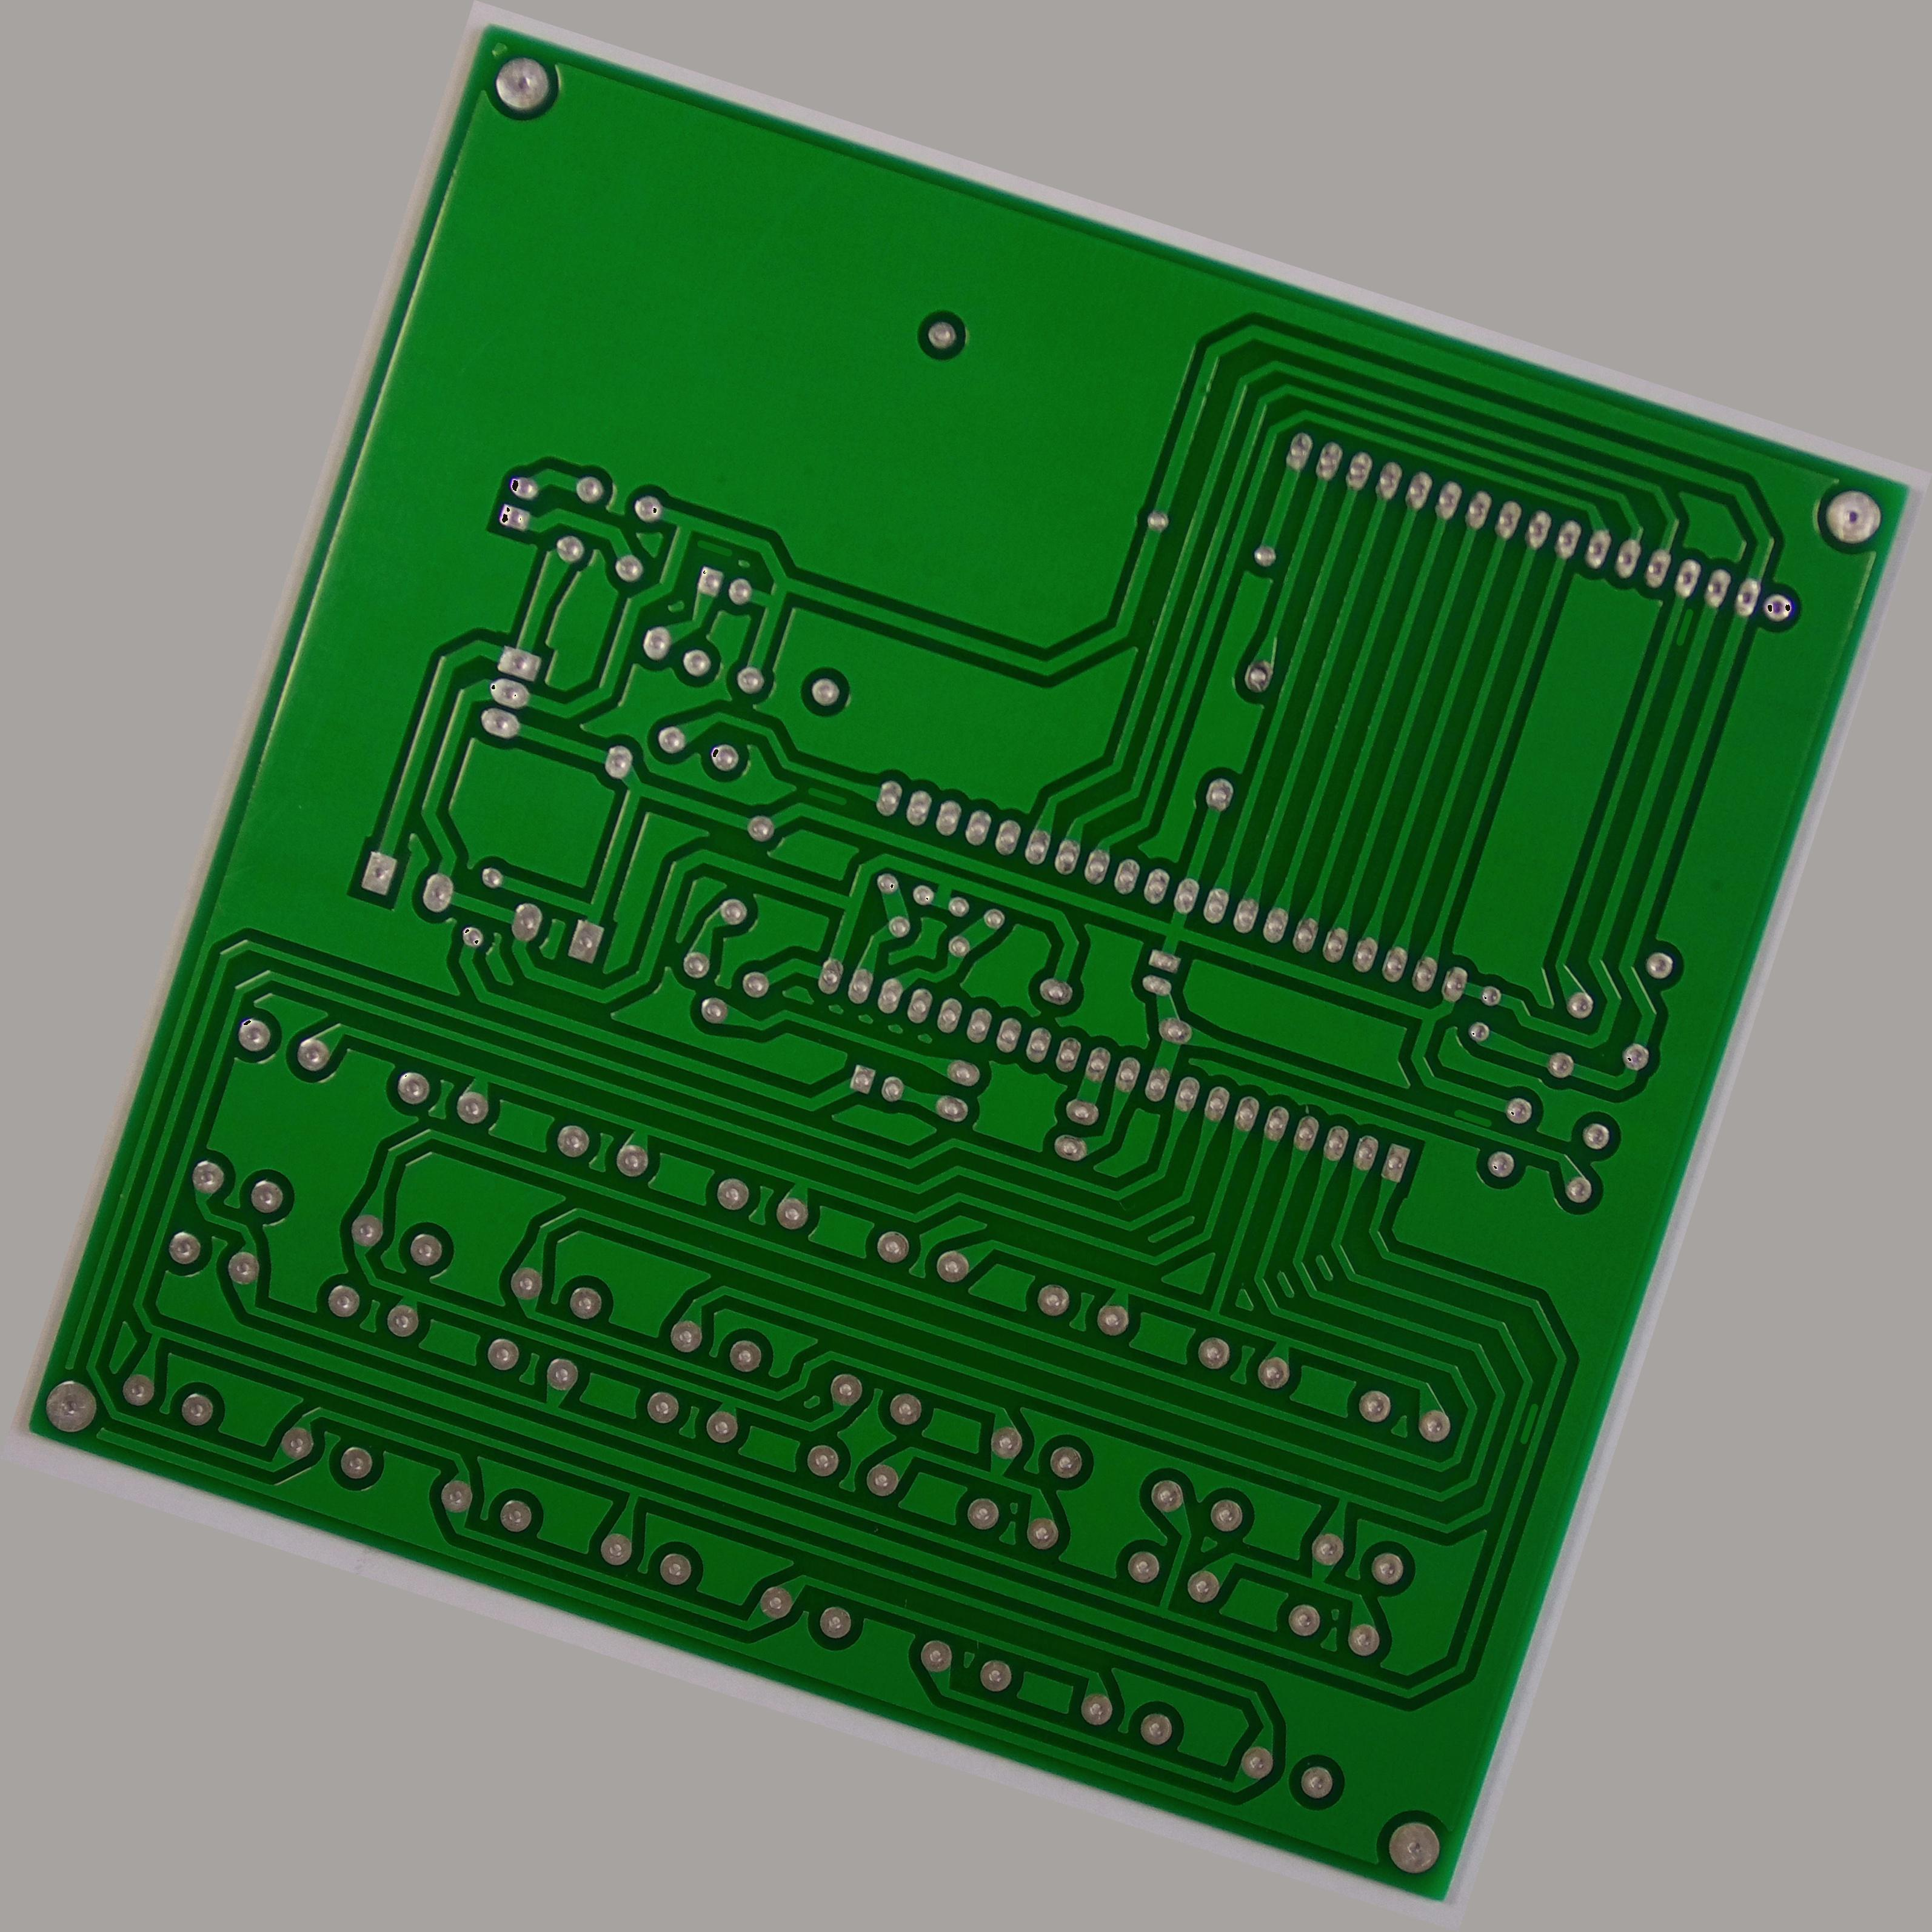spurious_copper: (681, 520, 750, 571), (791, 770, 858, 821), (1442, 1095, 1504, 1136), (1507, 1394, 1546, 1449), (1665, 598, 1706, 649)
